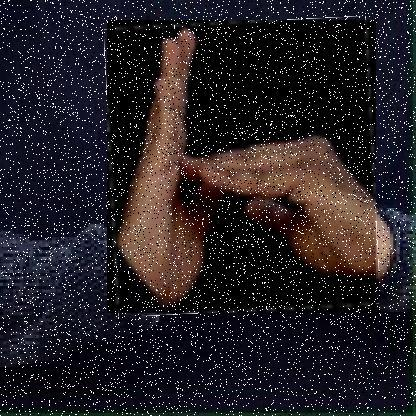Z: (107, 20, 377, 314)
